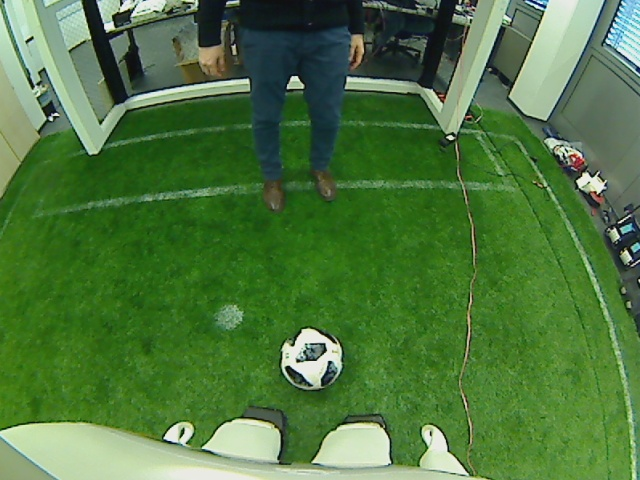ball: (278, 326, 344, 392)
